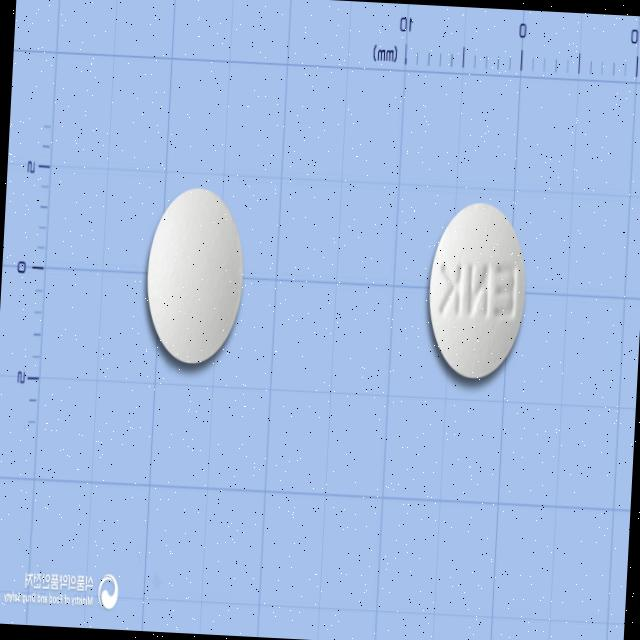Levoflo: (423, 200, 531, 380)
